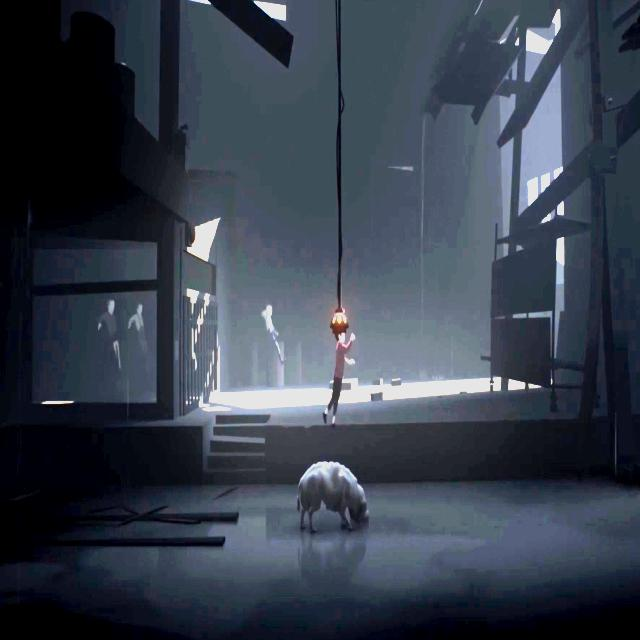boy: (324, 322, 354, 426)
zombie: (98, 300, 122, 370), (262, 304, 286, 366), (128, 305, 147, 358)
